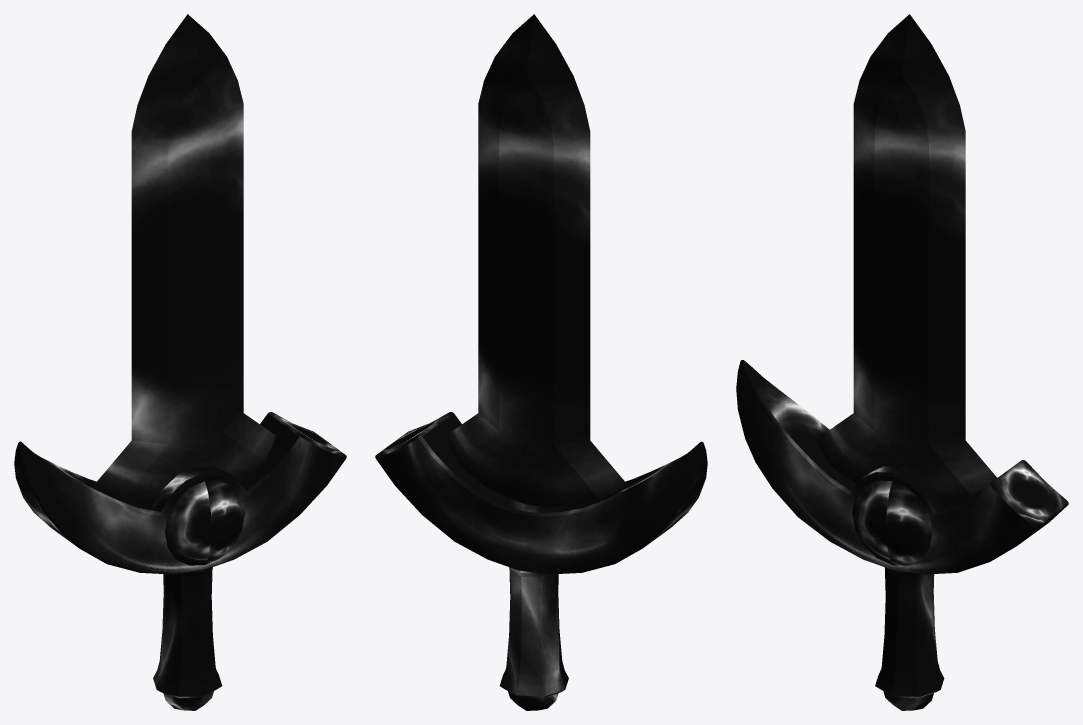
File: 0335_jian.glb
3 views of the same model, side by side, from view 1: azimuth 30°, elevation 25°; view 2: azimuth 150°, elevation 25°; view 3: azimuth 330°, elevation 25° (orthographic).
Bounding box in the file's own units: 1.03 × 2.2 × 0.239.
Materials: 1 (1 with a texture image).
